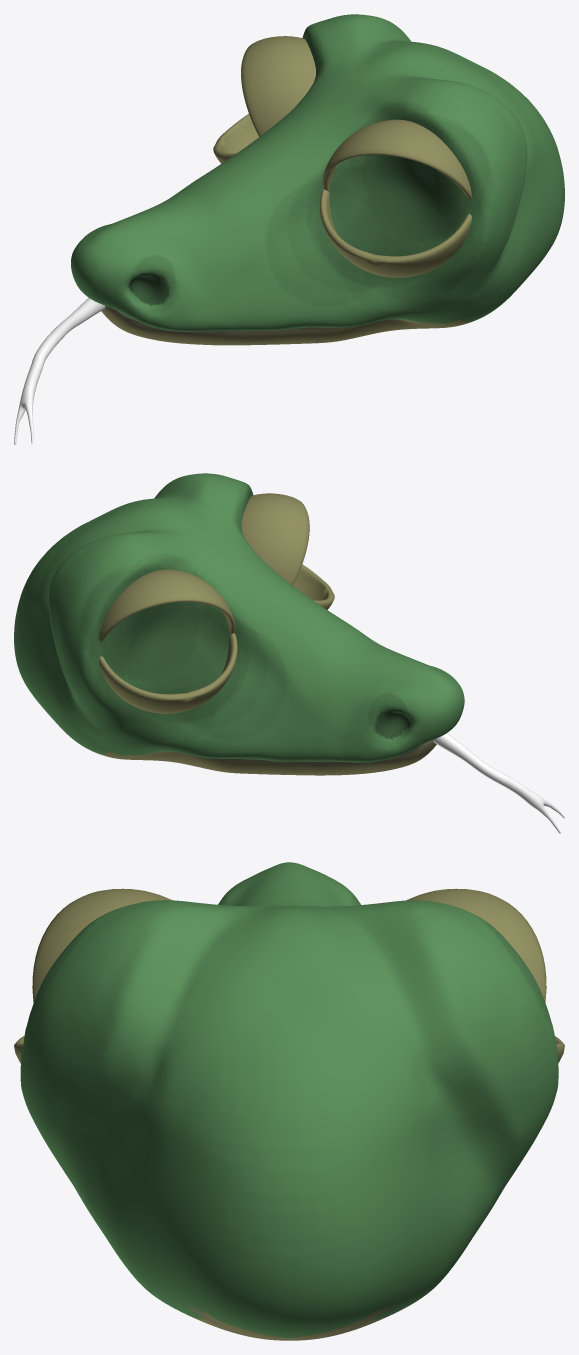
File: SnakeHead.fbx
The picture shows the model from 3 angles, top to bottom: view 1: azimuth 30°, elevation 25°; view 2: azimuth 150°, elevation 25°; view 3: azimuth 270°, elevation 25°; orthographic projection. The views are drawn at different scales.
Visible parts, largest first — view 1: Sphere.001, Cube.002; view 2: Sphere.001, Cube.002; view 3: Sphere.001.
Boxes of the visible parts, x1=… form: Sphere.001: x1=71, y1=14, x2=564, y2=345; Cube.002: x1=14, y1=298, x2=105, y2=444; Sphere.001: x1=14, y1=473, x2=464, y2=775; Cube.002: x1=433, y1=733, x2=564, y2=833; Sphere.001: x1=14, y1=862, x2=564, y2=1340.
Bounding box in the file's own units: 227 × 106 × 131.
